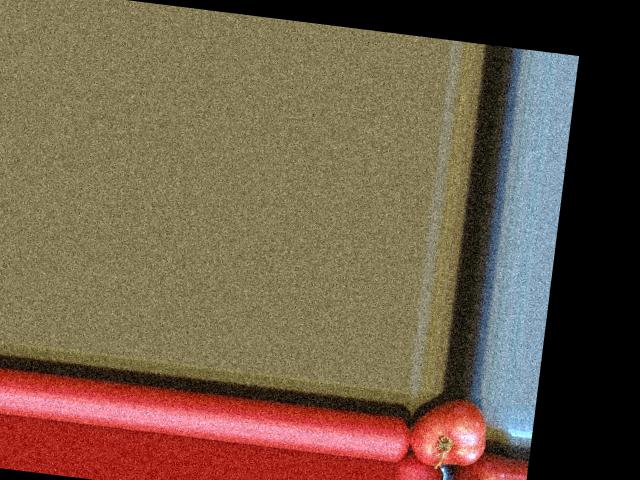tomato: (407, 393, 490, 471)
